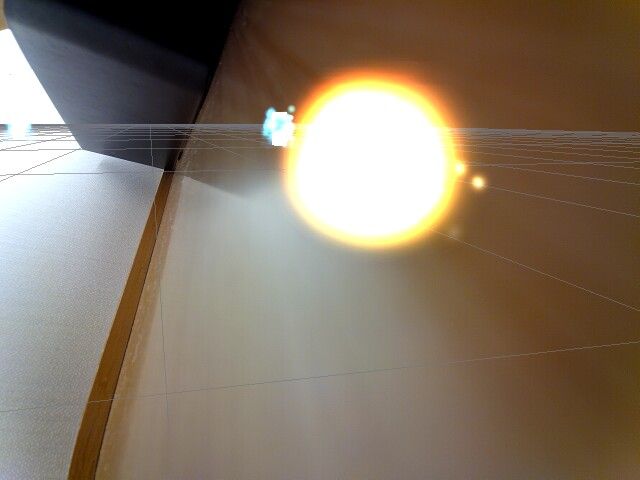firebig: (281, 54, 469, 269)
